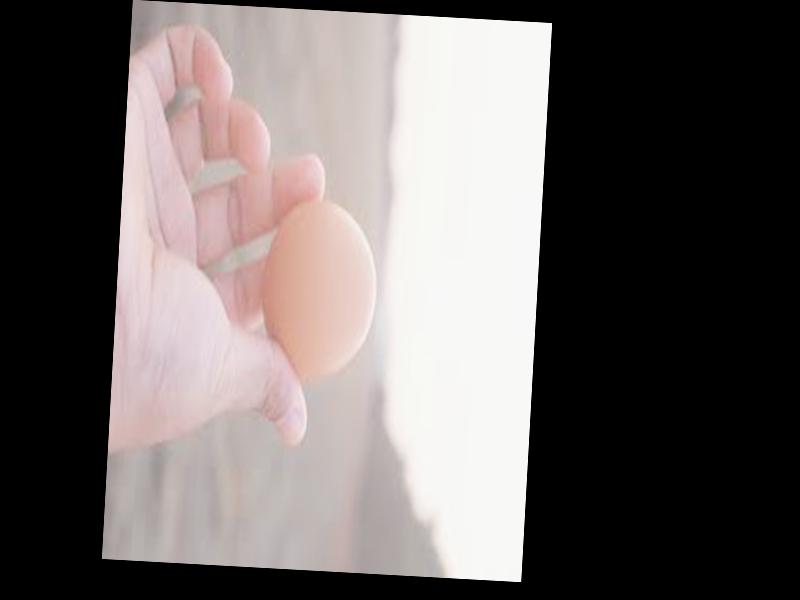Eggs: (260, 197, 381, 380)
